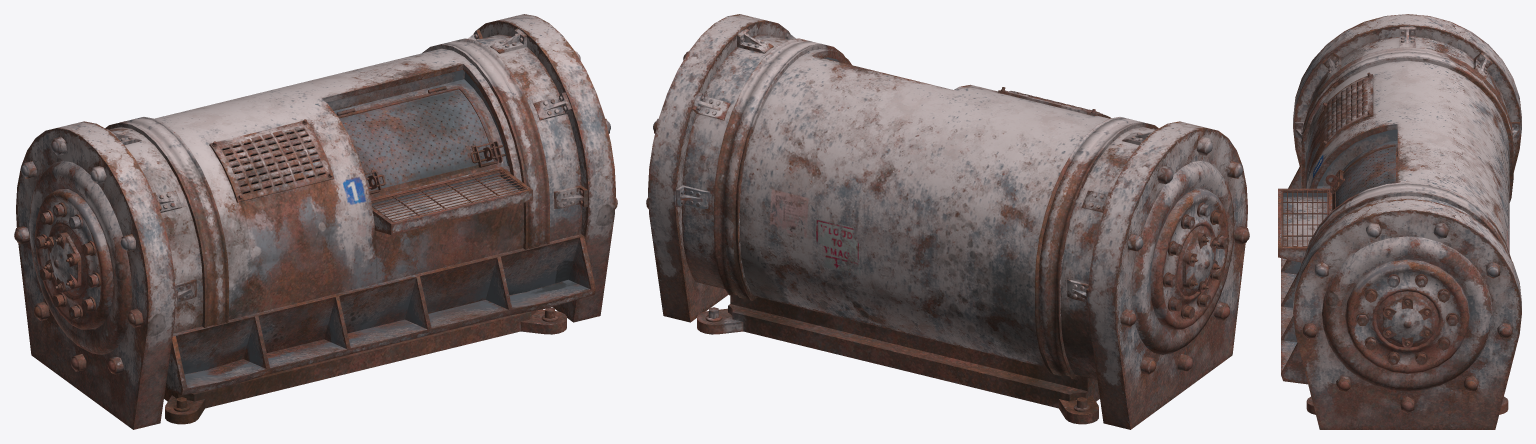
File: hl2_inspired_-_laundry_machine_1.glb
3 views of the same model, side by side, from view 1: azimuth 30°, elevation 25°; view 2: azimuth 150°, elevation 25°; view 3: azimuth 270°, elevation 25° (orthographic). The views are drawn at different scales.
Visible parts, largest first — view 1: Main_LP, Side_LP, Ring_LP, Door_LP, Base_LP, Vent_LP, Shelf_LP, Connector_1_LP, Grate_1_LP, Bolt_Big_LP, Bolt_Mid_LP, Cap_LP; view 2: Main_LP, Side_LP, Ring_LP, Base_LP, Connector_1_LP, Bolt_Big_LP, Bolt_Mid_LP, Cap_LP, Vent_LP; view 3: Side_LP, Main_LP, Ring_LP, Shelf_LP, Door_LP, Vent_LP, Cap_LP, Bolt_Big_LP, Bolt_Mid_LP, Connector_1_LP, Grate_1_LP, Grate_LP (+2 smaller).
Boxes of the visible parts, box(x1,y1,x2,y2) form: Main_LP: box(109, 34, 595, 395); Side_LP: box(16, 14, 615, 429); Ring_LP: box(105, 38, 549, 327); Door_LP: box(337, 85, 498, 195); Base_LP: box(164, 309, 566, 424); Vent_LP: box(209, 121, 334, 202); Shelf_LP: box(371, 167, 532, 234); Connector_1_LP: box(107, 28, 587, 306); Grate_1_LP: box(371, 169, 526, 221); Bolt_Big_LP: box(14, 51, 617, 374); Bolt_Mid_LP: box(34, 202, 100, 319); Cap_LP: box(46, 232, 81, 292); Main_LP: box(682, 34, 1154, 379); Side_LP: box(648, 14, 1247, 429); Ring_LP: box(714, 38, 1158, 379); Base_LP: box(697, 294, 1099, 424); Connector_1_LP: box(676, 28, 1156, 306); Bolt_Big_LP: box(646, 51, 1249, 374); Bolt_Mid_LP: box(1163, 202, 1229, 319); Cap_LP: box(1182, 232, 1217, 292); Vent_LP: box(998, 90, 1111, 118); Side_LP: box(1293, 14, 1521, 429); Main_LP: box(1281, 37, 1509, 384); Ring_LP: box(1301, 47, 1513, 259); Shelf_LP: box(1278, 188, 1332, 262); Door_LP: box(1333, 144, 1397, 208); Vent_LP: box(1324, 74, 1373, 147); Cap_LP: box(1383, 295, 1432, 348); Bolt_Big_LP: box(1302, 223, 1512, 413); Bolt_Mid_LP: box(1356, 274, 1458, 365); Connector_1_LP: box(1294, 27, 1520, 199); Grate_1_LP: box(1282, 189, 1328, 246); Grate_LP: box(1281, 190, 1328, 236).
Size of the model in its own units: 117 by 54.77 by 55.12.
1 material, 1 textured.
